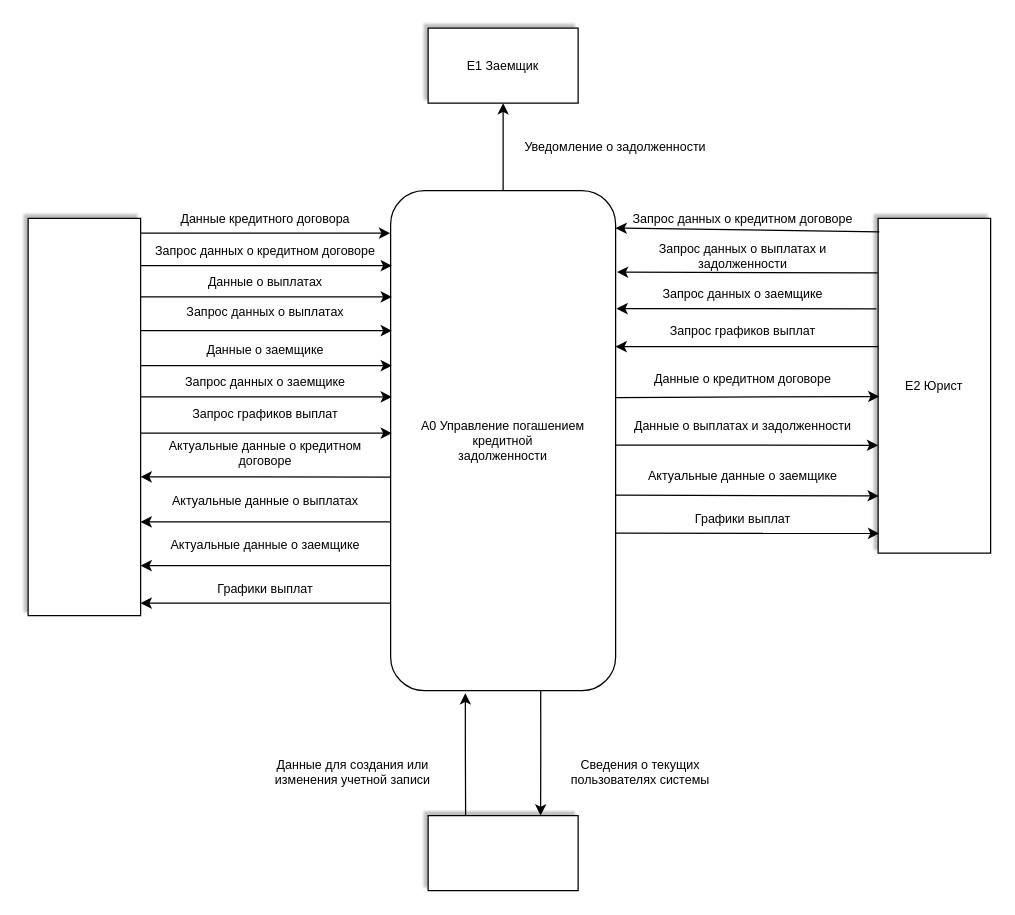
This 1015x915 diagram has some shape labels left out. Here are the shapes that lost their labels. From the top down, the centre of each, then its label:
point (82, 414): E3 Экономист
point (501, 850): E4 Администратор
